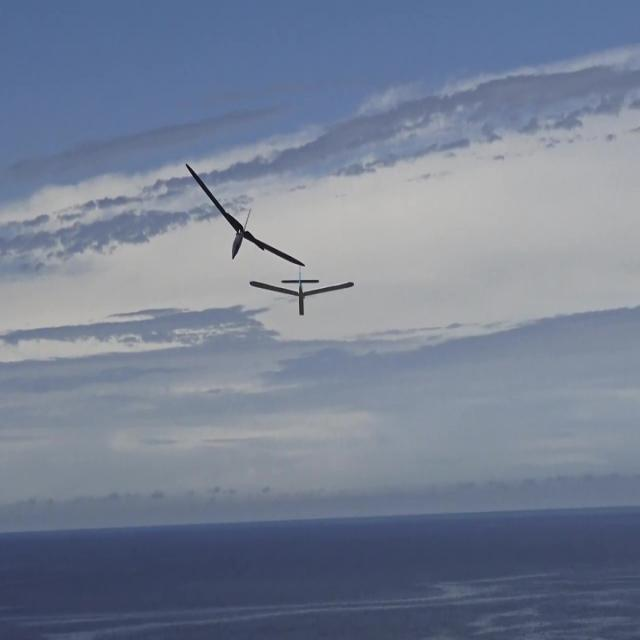iha: (218, 194, 274, 237), (281, 264, 322, 316)
